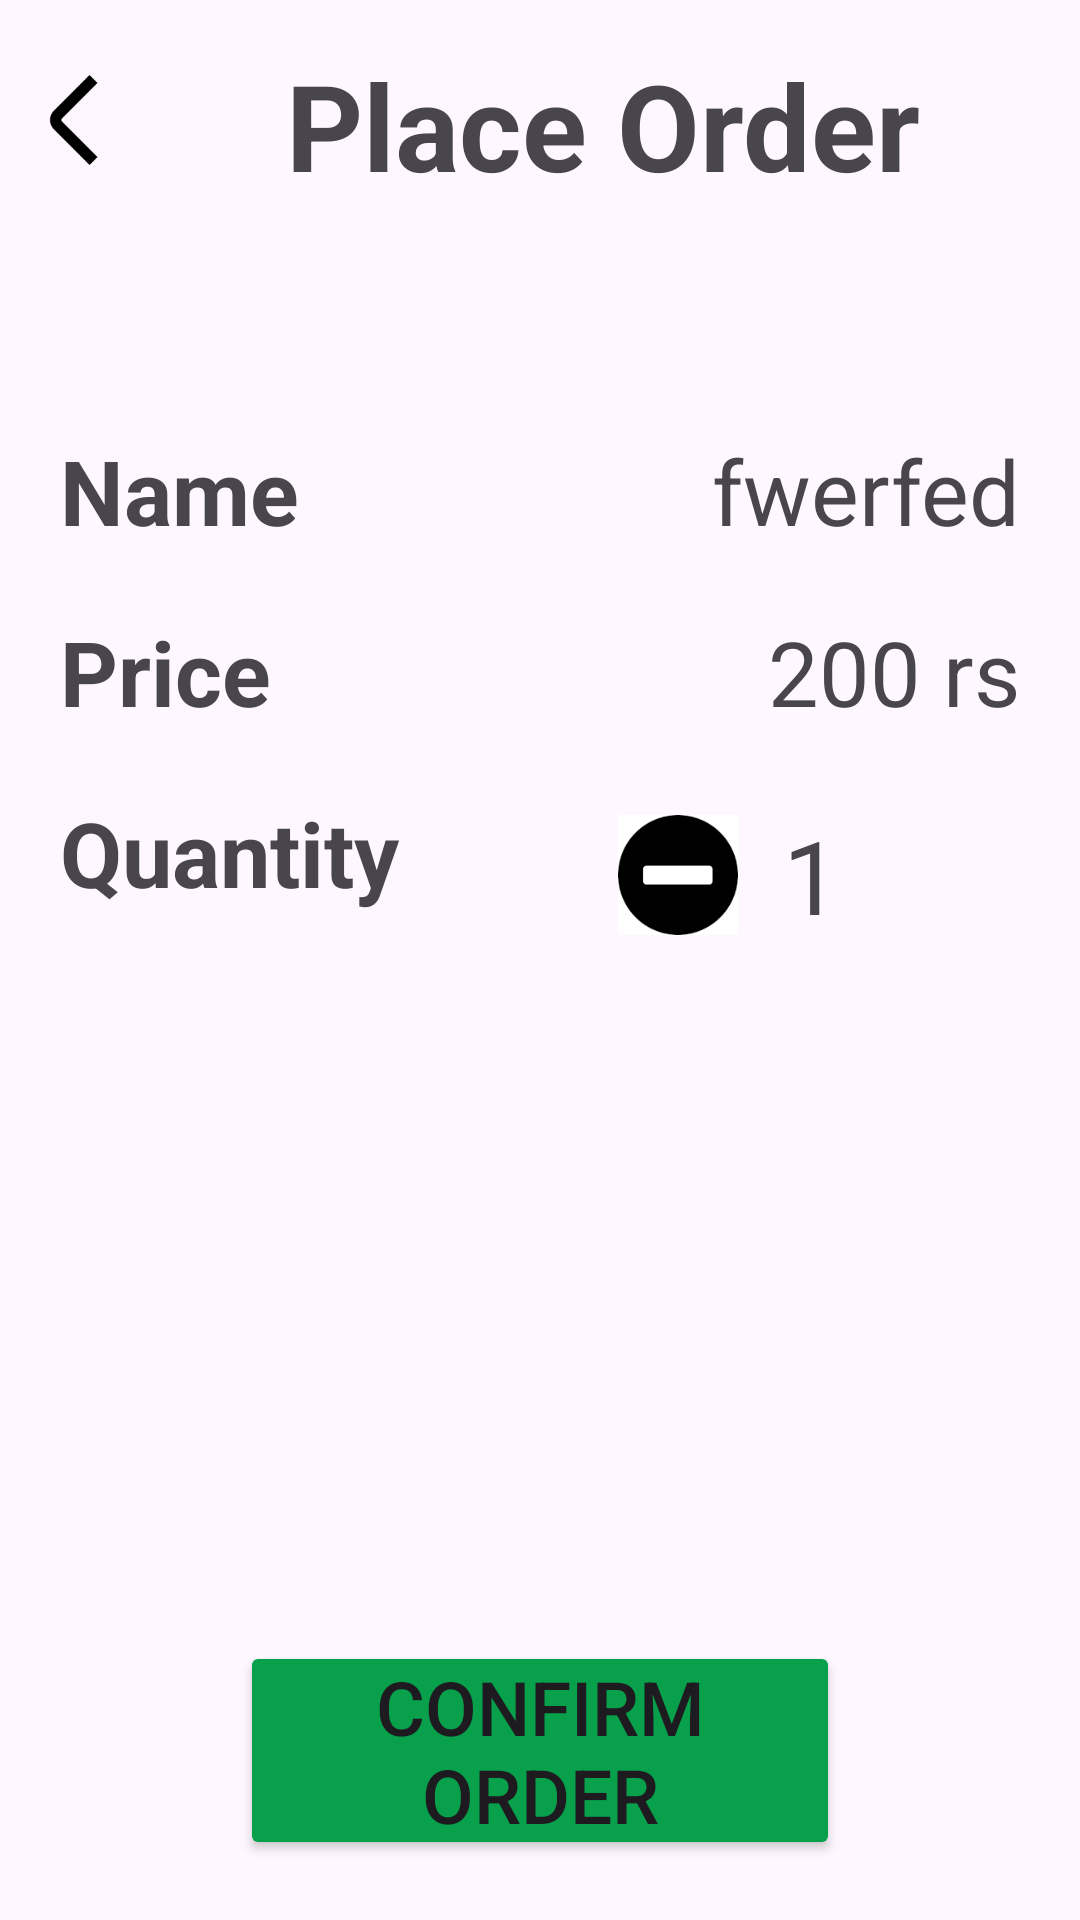

Where to tap for icons on this 1080*1920 app screen, as [x,y]:
back: [73,120]
minus: [678,875]
